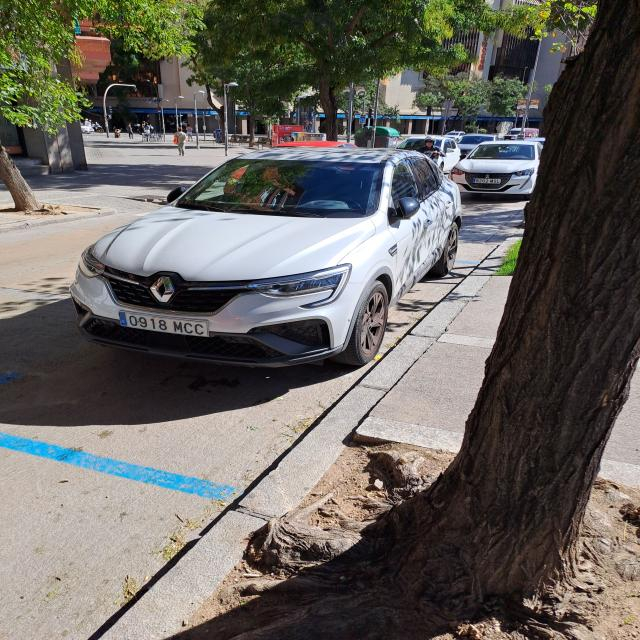license_plate-34Td: (120, 312, 208, 337)
